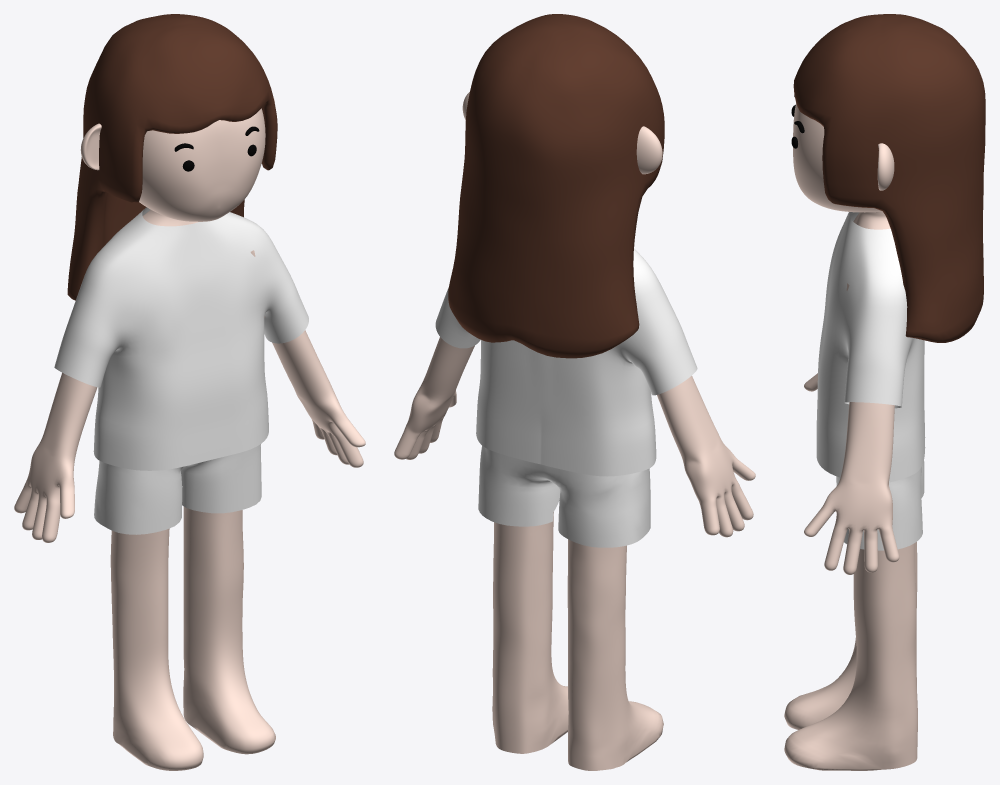
The model's file is GIRL_CR.fbx.
3 views of the same model, side by side, from view 1: azimuth 30°, elevation 25°; view 2: azimuth 150°, elevation 25°; view 3: azimuth 270°, elevation 25° (orthographic). The views are drawn at different scales.
Parts seen in each view (by area): view 1: girl; view 2: girl; view 3: girl.
Part boxes in pixels (box(x1,y1,x2,y2)): girl: box(14, 14, 365, 770); girl: box(394, 14, 755, 770); girl: box(784, 14, 985, 770).
Bounding box in the file's own units: 3873 × 8110 × 2062.
1 material, 1 textured.
